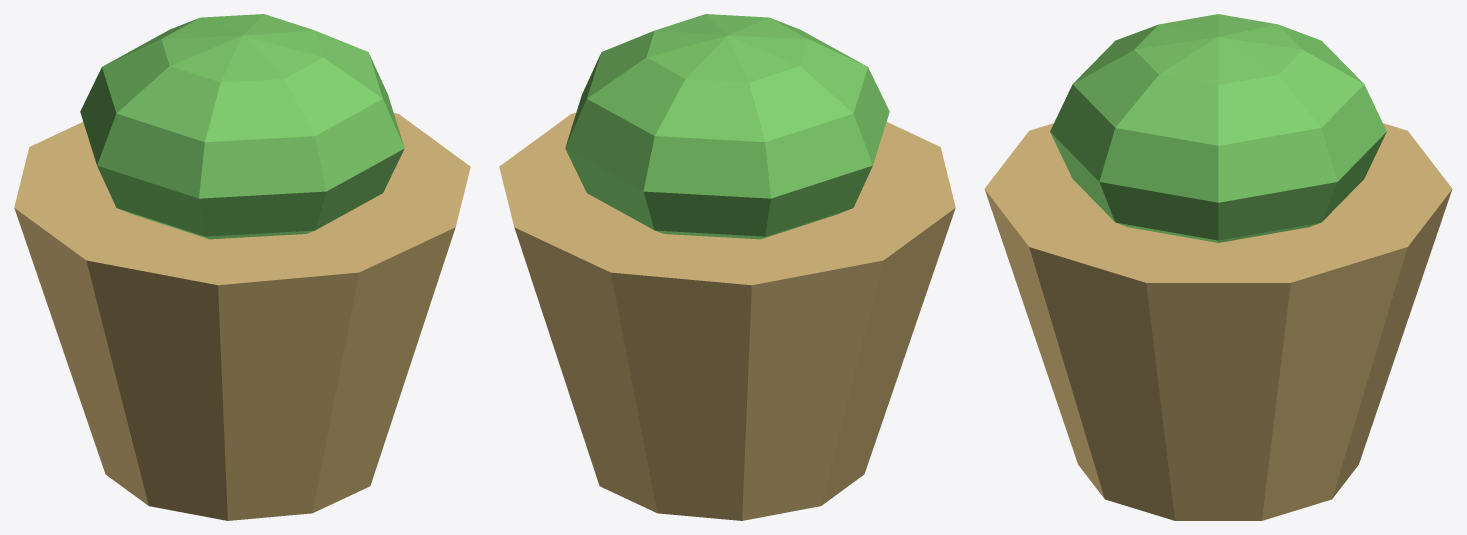
Rendered from herb_basket.dae.
The picture shows the model from 3 angles, left to right: view 1: azimuth 30°, elevation 25°; view 2: azimuth 150°, elevation 25°; view 3: azimuth 270°, elevation 25°; orthographic projection.
Visible parts, largest first — view 1: Cone, Sphere; view 2: Cone, Sphere; view 3: Cone, Sphere.
Part boxes in pixels (x1=…): Cone: x1=14, y1=113, x2=470, y2=520; Sphere: x1=80, y1=14, x2=404, y2=239; Cone: x1=499, y1=113, x2=955, y2=520; Sphere: x1=565, y1=14, x2=889, y2=239; Cone: x1=984, y1=123, x2=1452, y2=520; Sphere: x1=1050, y1=14, x2=1386, y2=242.
Bounding box in the file's own units: 95.11 × 100 × 101.
